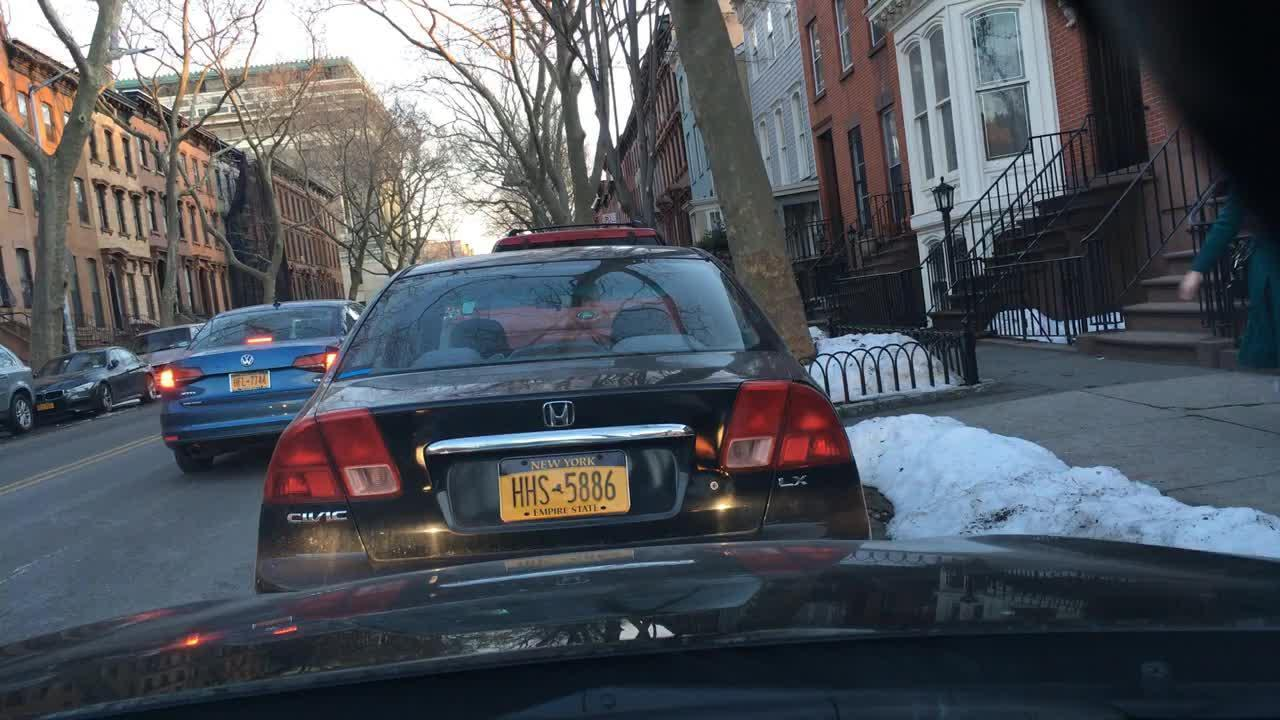Honda: (521, 381, 602, 442)
Volkswagen: (236, 347, 260, 371)
